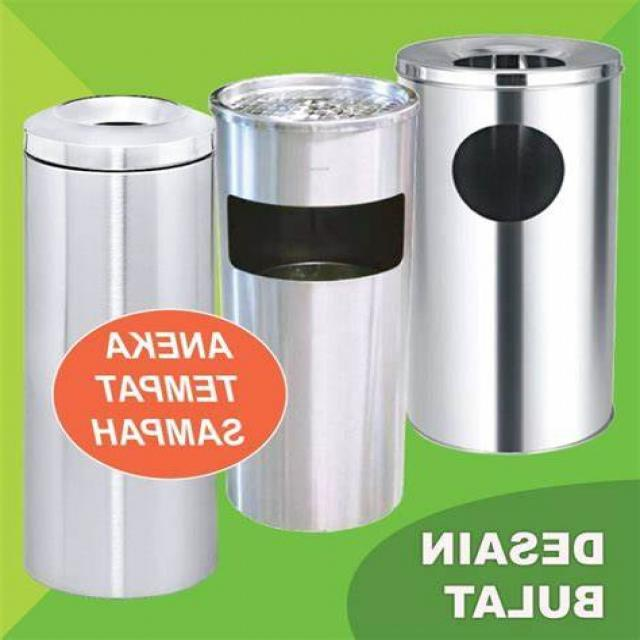garbage container: (398, 22, 626, 478), (12, 92, 209, 598), (208, 74, 416, 526)
